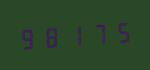eight: (41, 22, 63, 50)
five: (110, 17, 132, 45)
nine: (18, 23, 40, 52)
one: (64, 20, 86, 49)
seven: (87, 19, 109, 47)
